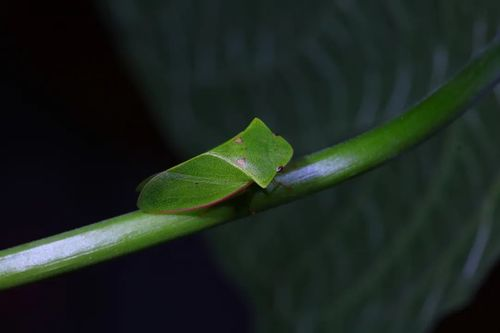Cicadellidae: (134, 116, 295, 213)
